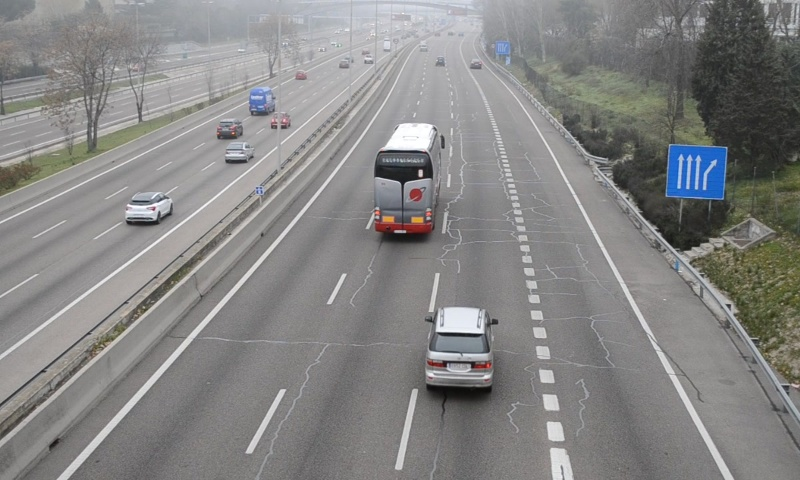bus: (372, 122, 443, 236)
car: (423, 307, 496, 391)
